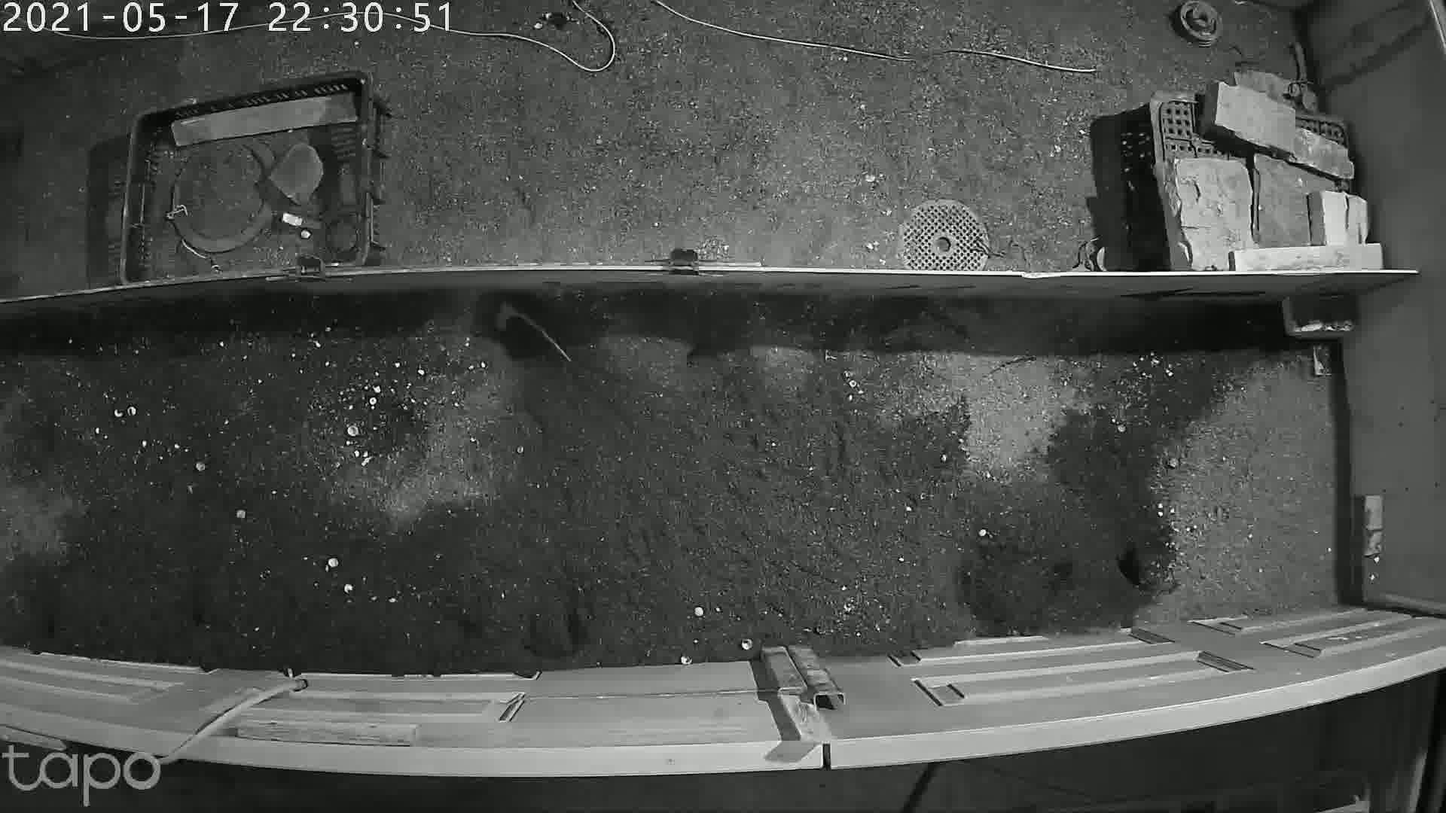rat: (493, 297, 586, 385)
